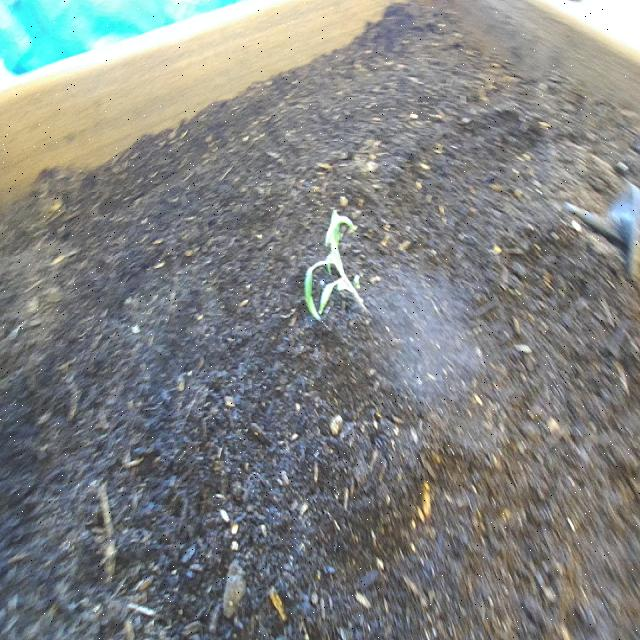Unhealthy: (300, 200, 372, 334)
